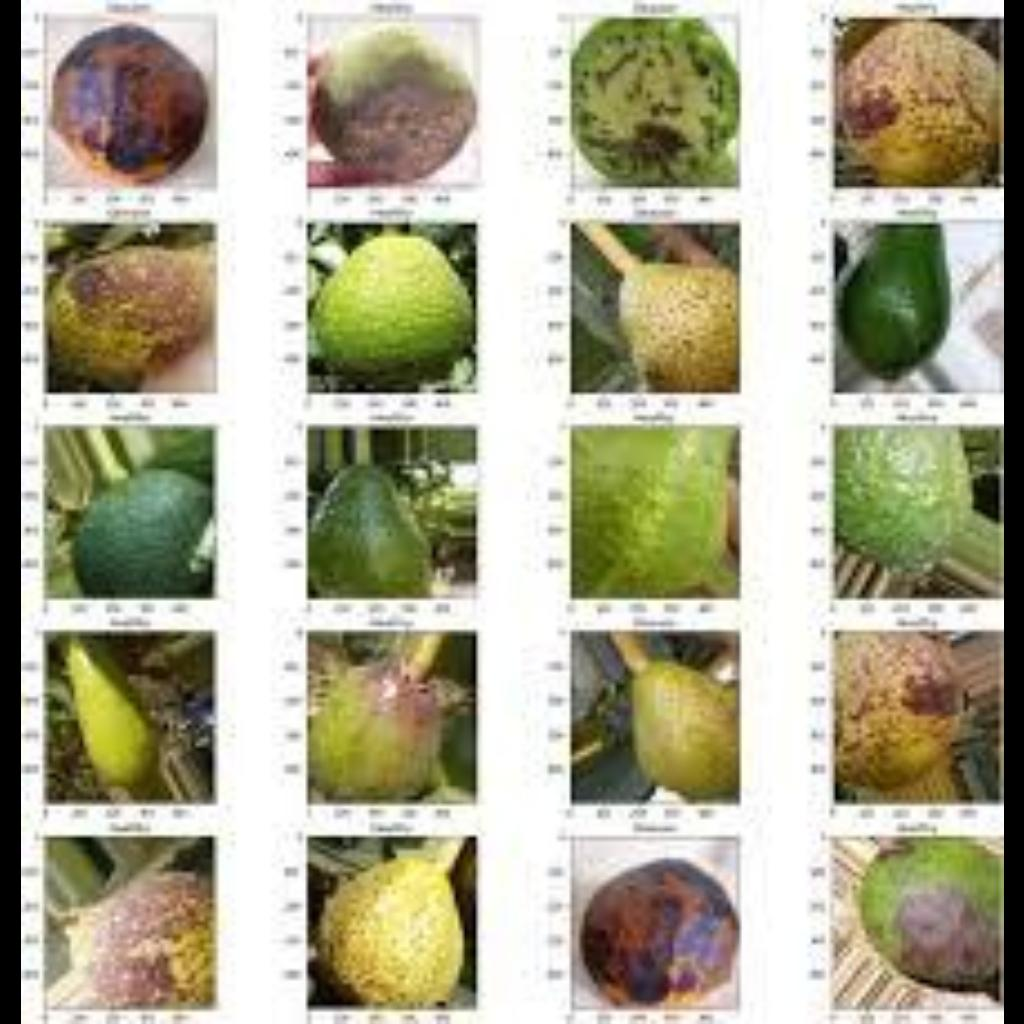antracnosis_fruto: (33, 22, 261, 188), (536, 29, 751, 191), (31, 228, 223, 402), (40, 841, 223, 1015), (284, 32, 481, 188), (824, 836, 1004, 992), (302, 644, 459, 792)
